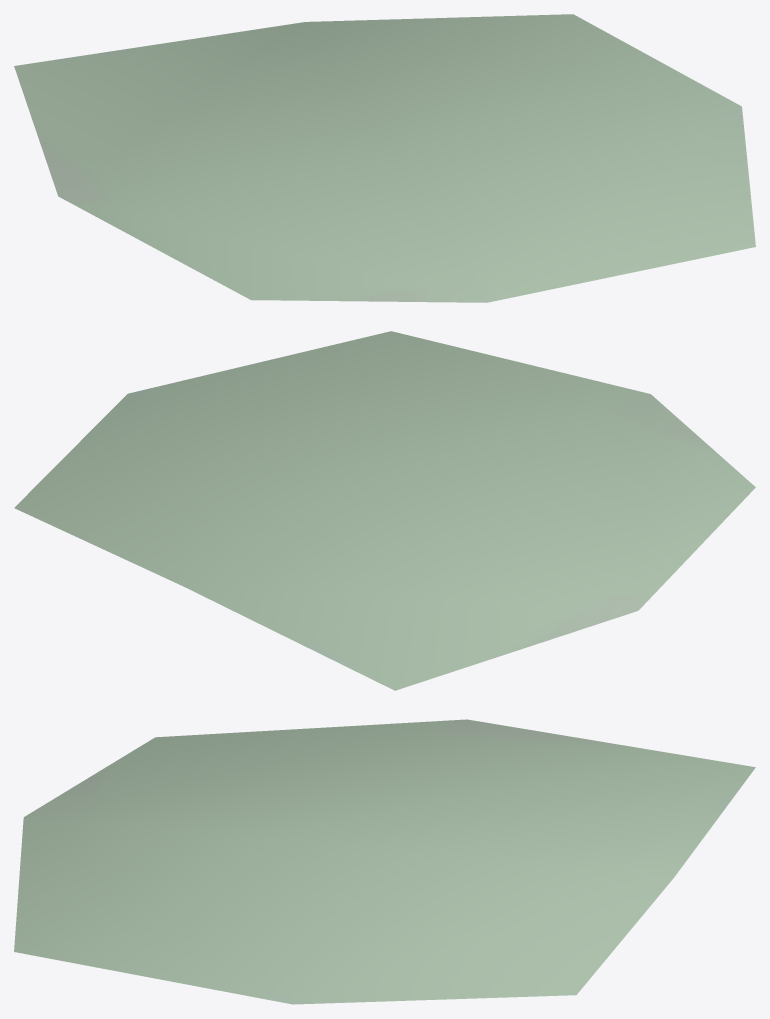
File: TROLLHOLE02_HOLECAP18.fbx
3 views of the same model, one above another, from view 1: azimuth 30°, elevation 25°; view 2: azimuth 150°, elevation 25°; view 3: azimuth 270°, elevation 25° (orthographic).
Visible parts, largest first — view 1: TROLLHOLE02_HOLECAP18; view 2: TROLLHOLE02_HOLECAP18; view 3: TROLLHOLE02_HOLECAP18.
Boxes of the visible parts, left/top/right/bottom form: TROLLHOLE02_HOLECAP18: left=14, top=14, right=755, bottom=302; TROLLHOLE02_HOLECAP18: left=14, top=331, right=755, bottom=690; TROLLHOLE02_HOLECAP18: left=14, top=719, right=755, bottom=1004.
Bounding box in the file's own units: 31594 × 730 × 33828.
1 material, 1 textured.
